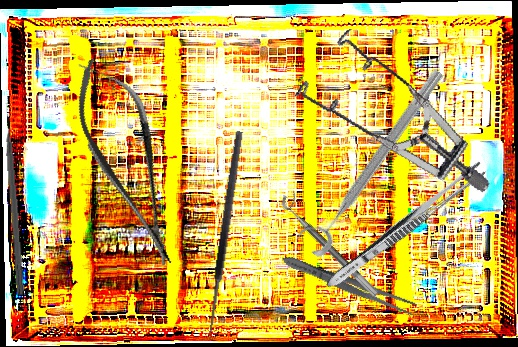Dressing Forceps: (322, 158, 488, 294), (279, 250, 419, 319)
Fixation Ring: (292, 58, 449, 260), (276, 187, 388, 299)
Hook Surgical: (204, 130, 254, 342)
Micro Scissor: (60, 47, 196, 277)
Pusher: (2, 102, 27, 296)
Speculum: (278, 1, 493, 243)
